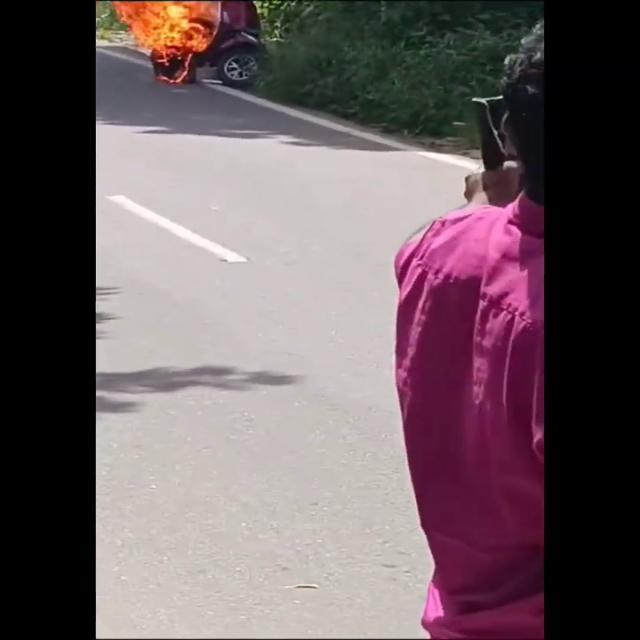Fire: (106, 0, 220, 78)
